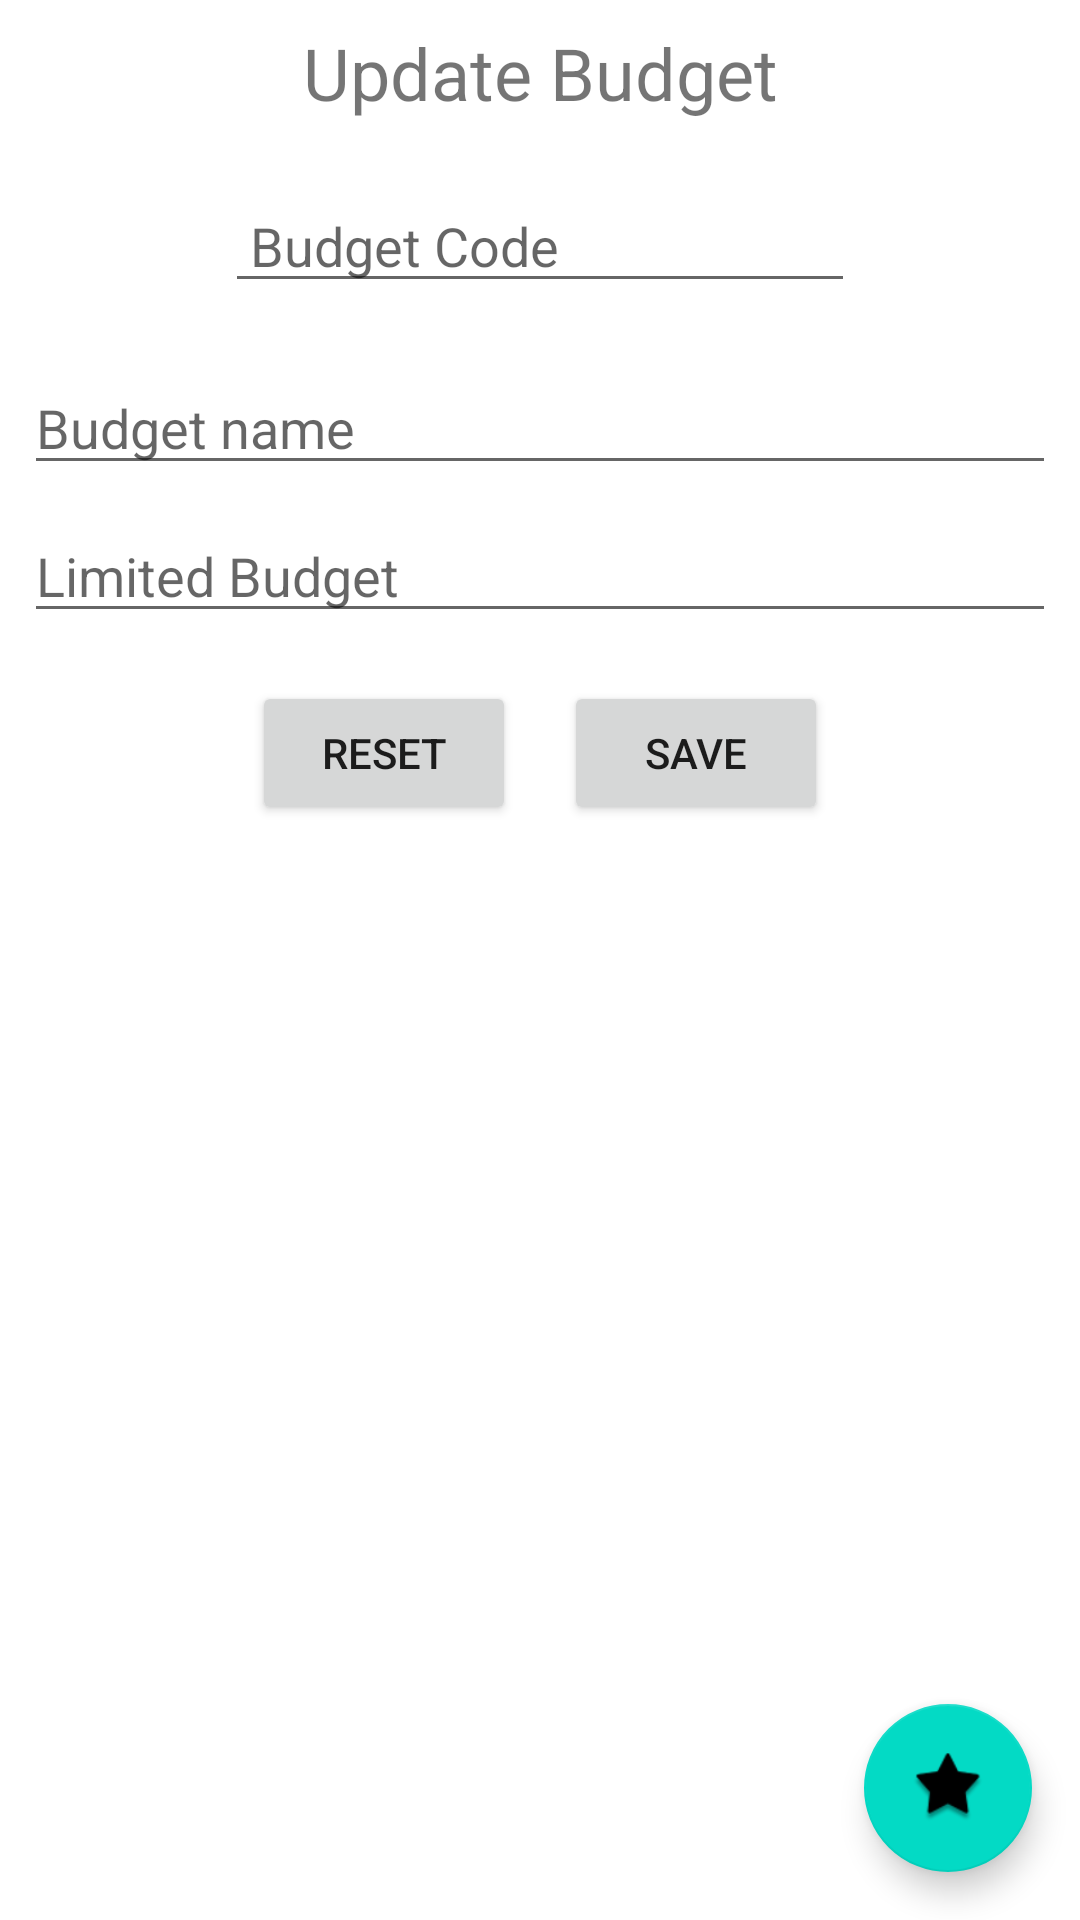

Named icons in this screenshot (1080 x 1920) and their bounding boxes, (x1=x1, y1=y1, x2=x2, y2=y2):
star on: (x1=864, y1=1704, x2=1032, y2=1872)
